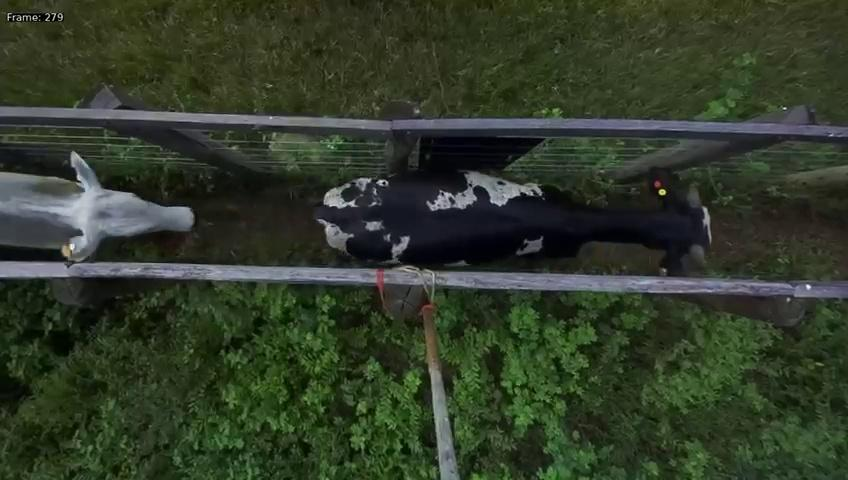cattle: (300, 153, 734, 283)
